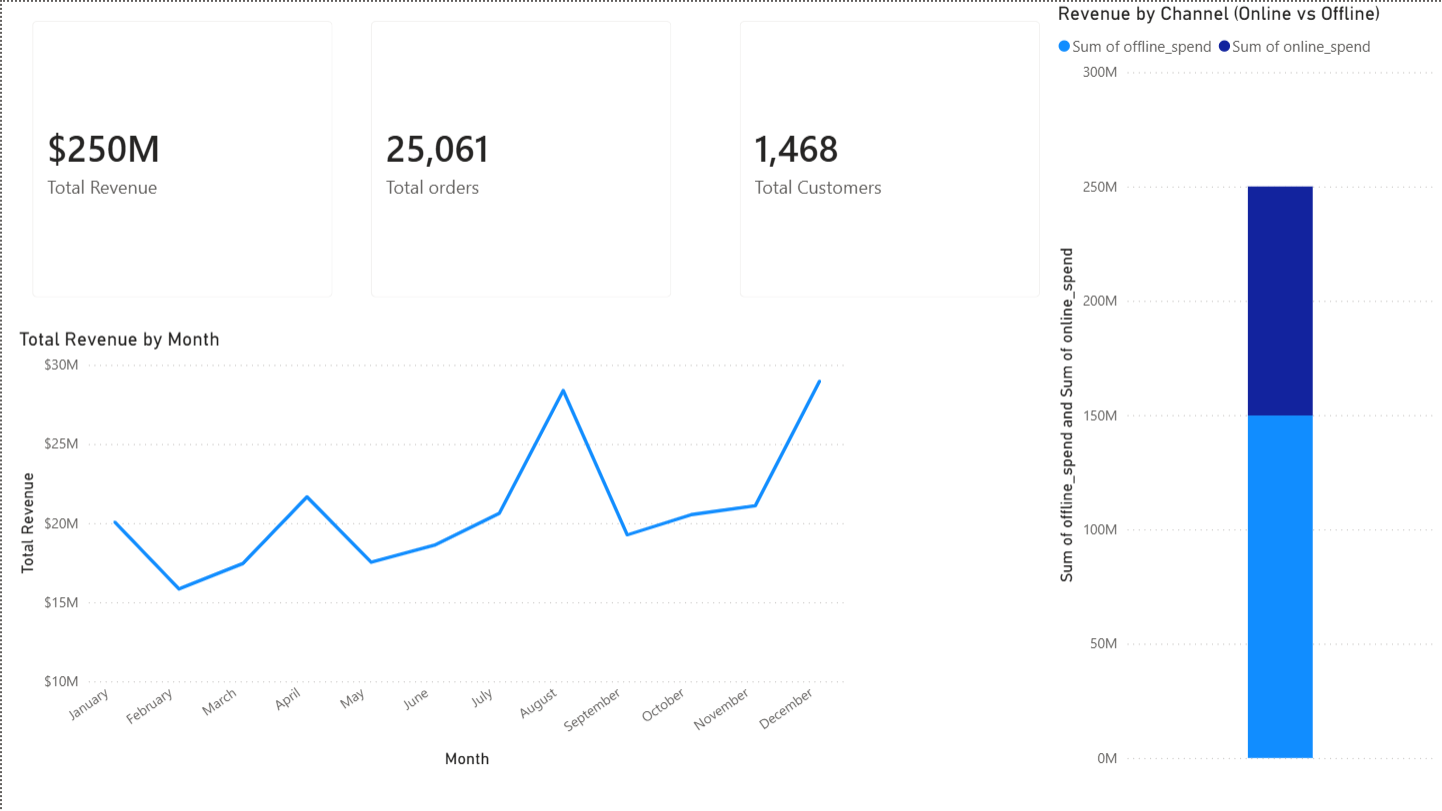

The dashboard page shown, as its layout file describes it:
{"tool":"powerbi","page":{"name":"Executive Summary","canvas":[1280,720],"ordinal":0},"visuals":[{"type":"cardVisual","fields":{"Data":["transactions.Total Revenue"]},"box":[9.7,0,301.1,280],"z":0},{"type":"cardVisual","fields":{"Data":["transactions.Total Orders"]},"box":[310.8,0,301.1,280],"z":1000},{"type":"cardVisual","fields":{"Data":["transactions.Total Customers"]},"box":[639.4,0,301.1,280],"z":2000},{"type":"lineChart","fields":{"Category":["transactions.transaction_date.Variation.Date Hierarchy.Month"],"Y":["transactions.Total Revenue"]},"box":[9.7,289.7,744.6,396.6],"z":3000},{"type":"columnChart","title":"Revenue by Channel (Online vs Offline)","fields":{"Y":["Sum(transactions.offline_spend)","Sum(transactions.online_spend)"]},"box":[933.3,0,346.7,686.7],"z":4000}]}

Visuals, with their boxes in screenshot pixels (x1, y1, x2, y2), scaled from the page's 1280x720 canvas onto the 1442x811 screenshot:
cardVisual - transactions.Total Revenue: rect(11, 0, 350, 315)
cardVisual - transactions.Total Orders: rect(350, 0, 689, 315)
cardVisual - transactions.Total Customers: rect(720, 0, 1060, 315)
lineChart - transactions.transaction_date.Variation.Date Hierarchy.Month x transactions.Total Revenue: rect(11, 326, 850, 773)
"Revenue by Channel (Online vs Offline)" columnChart: rect(1051, 0, 1441, 773)
